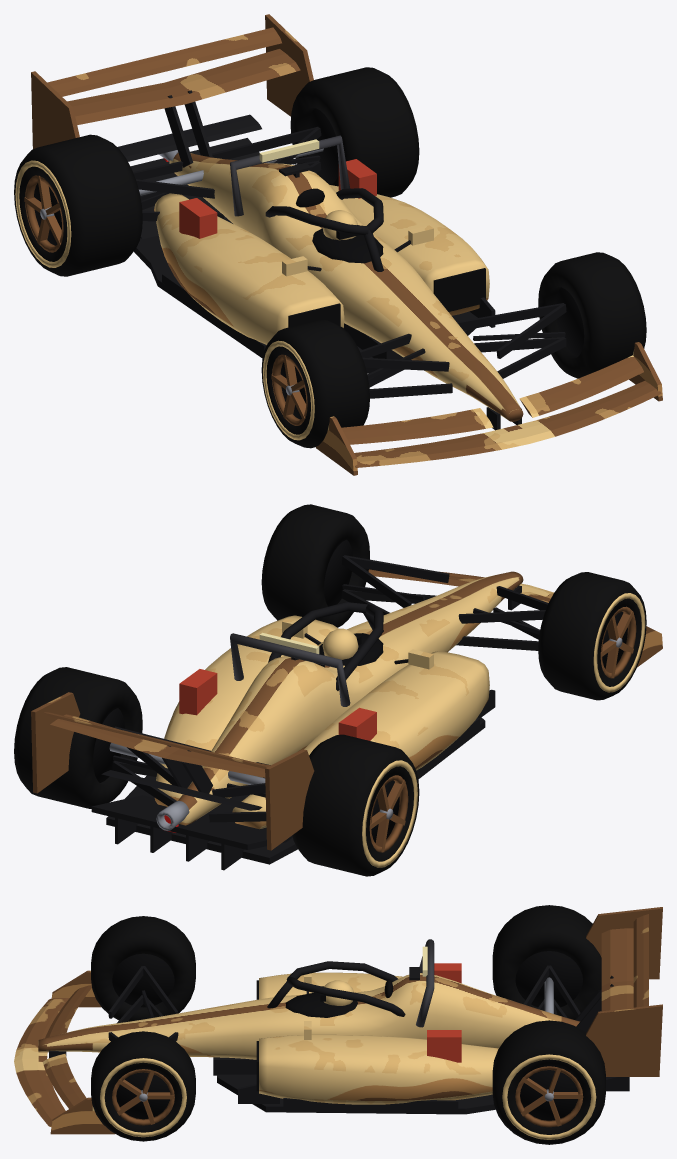
Rendered from dunes_a.fbx.
3 views of the same model, one above another, from view 1: azimuth 30°, elevation 25°; view 2: azimuth 150°, elevation 25°; view 3: azimuth 270°, elevation 25° (orthographic). The views are drawn at different scales.
Parts seen in each view (by area): view 1: Body, Trim, Wheel_RL, Wheel_RR, Wheel_FL, Wheel_FR, Acc; view 2: Body, Trim, Wheel_RL, Wheel_FL, Wheel_RR, Wheel_FR, Acc, Glow; view 3: Body, Trim, Wheel_RR, Wheel_FR, Wheel_RL, Wheel_FL, Acc.
Boxes of the visible parts, x1,y1,x2,y2 form: Body: (31,14,662,475); Trim: (117,90,566,430); Wheel_RL: (14,134,142,276); Wheel_RR: (290,67,419,197); Wheel_FL: (261,319,369,448); Wheel_FR: (538,252,646,378); Acc: (179,135,376,238); Body: (31,569,662,850); Trim: (91,555,548,870); Wheel_RL: (292,734,419,876); Wheel_FL: (538,572,646,700); Wheel_RR: (14,667,142,808); Wheel_FR: (261,504,369,627); Acc: (179,633,376,740); Glow: (164,632,319,832); Body: (14,907,662,1134); Trim: (49,961,629,1114); Wheel_RR: (492,1020,605,1144); Wheel_FR: (91,1031,195,1141); Wheel_RL: (492,905,601,1019); Wheel_FL: (91,916,195,1021); Acc: (416,939,461,1062).
Size of the model in its own units: 9.81 by 3.78 by 18.55.
Materials: 4 (1 with a texture image).
